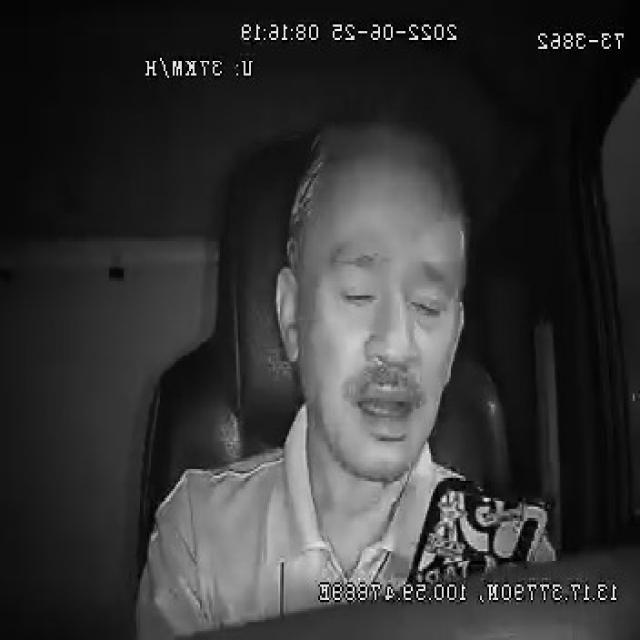phone: (409, 473, 553, 579)
